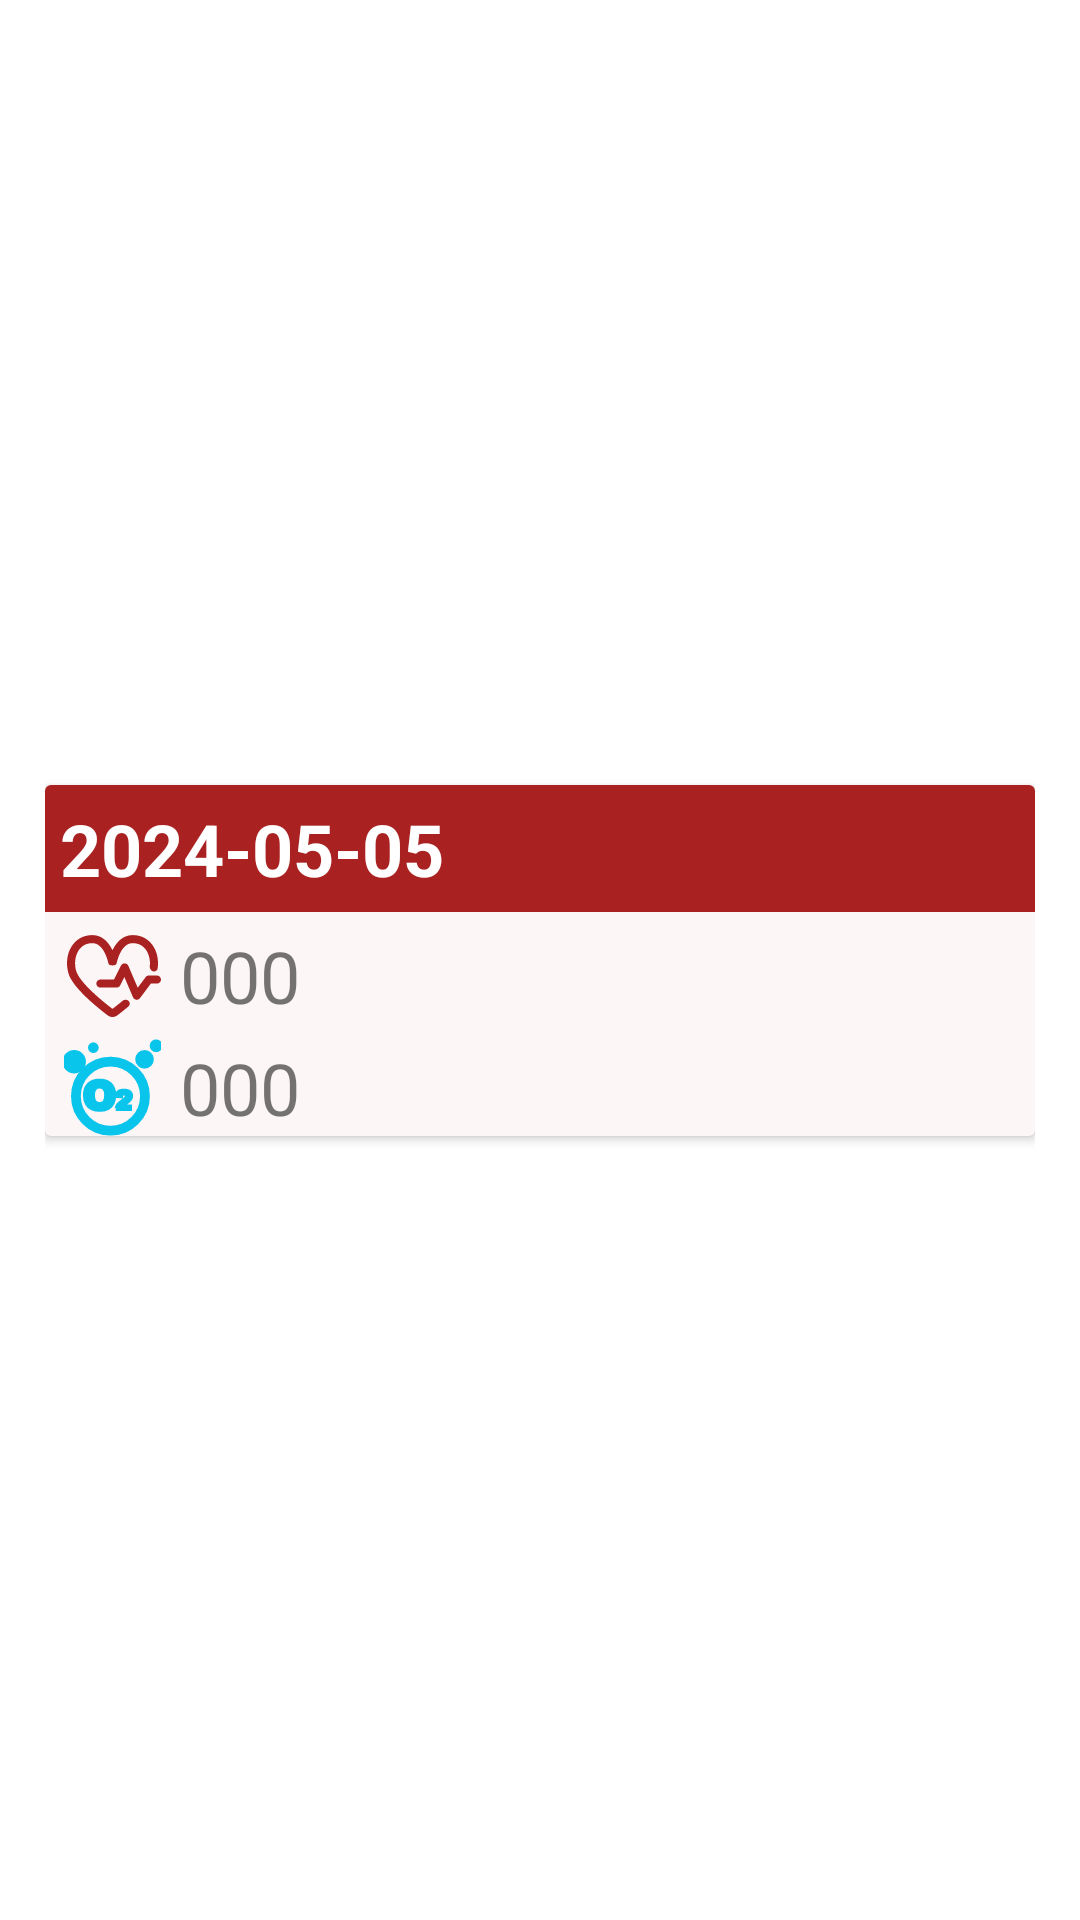

Icon click points for this 1080*1920 phone screenshot, format (x=x, y=y):
frequence cardiaque: (x=114, y=976)
saturation oxygen: (x=103, y=1087)
